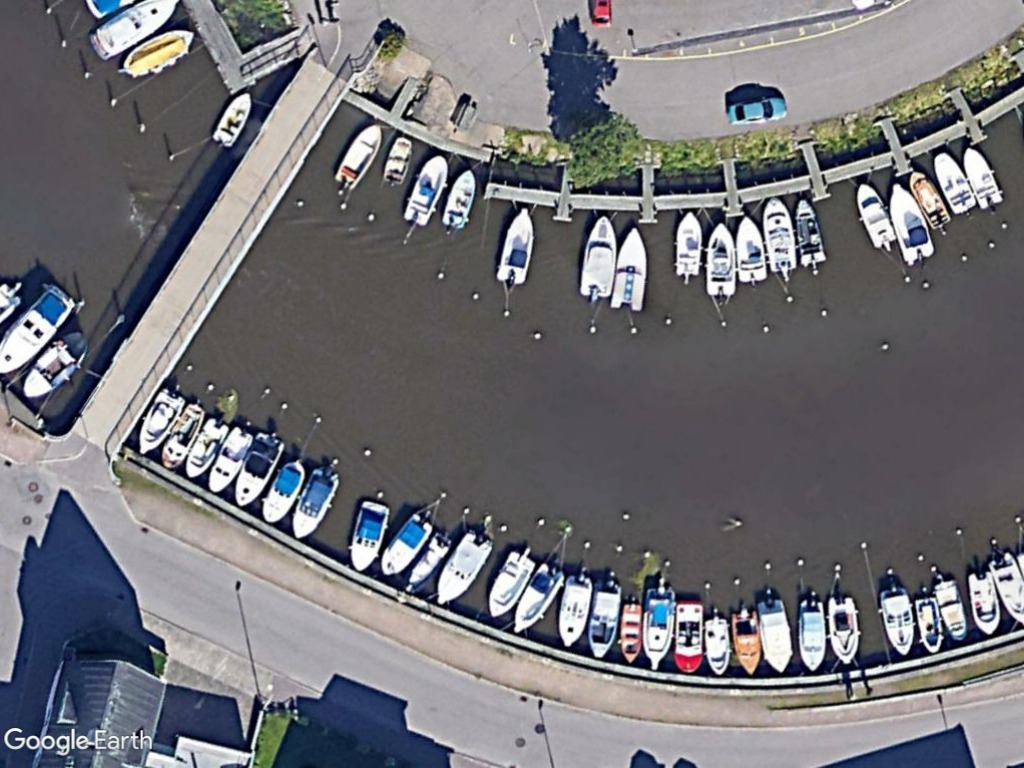boat: (0, 282, 77, 379), (15, 323, 92, 404), (430, 525, 496, 609), (506, 558, 567, 639), (230, 425, 287, 508), (116, 23, 196, 82), (287, 460, 342, 544), (605, 222, 652, 315), (575, 206, 619, 304), (400, 149, 452, 231), (884, 177, 933, 264), (636, 580, 680, 675), (132, 384, 189, 457), (484, 545, 536, 622), (491, 204, 537, 291), (155, 397, 206, 473), (256, 455, 309, 528), (376, 511, 432, 579), (204, 421, 253, 498), (332, 120, 385, 190), (751, 594, 795, 677), (553, 566, 594, 652), (346, 496, 391, 574), (958, 144, 1007, 215), (756, 190, 797, 273), (181, 413, 229, 483), (669, 594, 709, 677), (700, 215, 737, 304), (925, 572, 970, 645), (584, 580, 625, 660), (905, 166, 953, 233), (962, 564, 1003, 641), (791, 594, 829, 677), (931, 147, 977, 215), (852, 178, 896, 249), (787, 194, 829, 268), (822, 593, 862, 667), (876, 584, 915, 659), (210, 85, 253, 151), (440, 162, 478, 234), (668, 206, 704, 282), (731, 211, 767, 284), (727, 604, 761, 675), (698, 611, 732, 677), (615, 598, 646, 667), (909, 593, 942, 657), (379, 132, 415, 188)
car: (719, 92, 793, 131)
